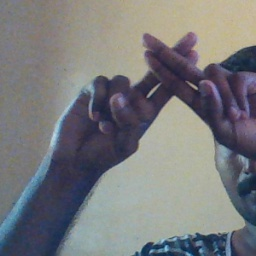F: (106, 27, 249, 141)
